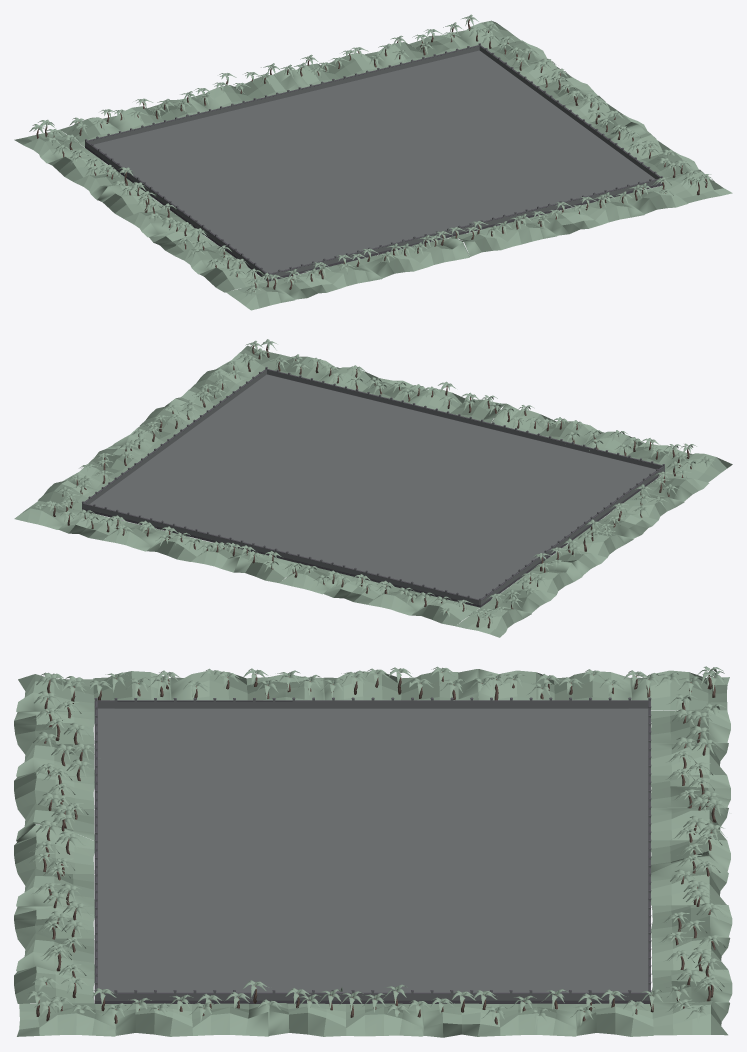
File: GroundPalm.fbx
3 renders of one model, top to bottom at view 1: azimuth 30°, elevation 25°; view 2: azimuth 150°, elevation 25°; view 3: azimuth 270°, elevation 25°, orthographic. The views are drawn at different scales.
Visible parts, largest first — view 1: Ground; view 2: Ground; view 3: Ground.
Boxes of the visible parts, x1,y1,x2,y2 form: Ground: [14, 14, 732, 310]; Ground: [14, 339, 732, 637]; Ground: [14, 666, 732, 1037].
Size of the model in its own units: 11280 by 513 by 9498.
